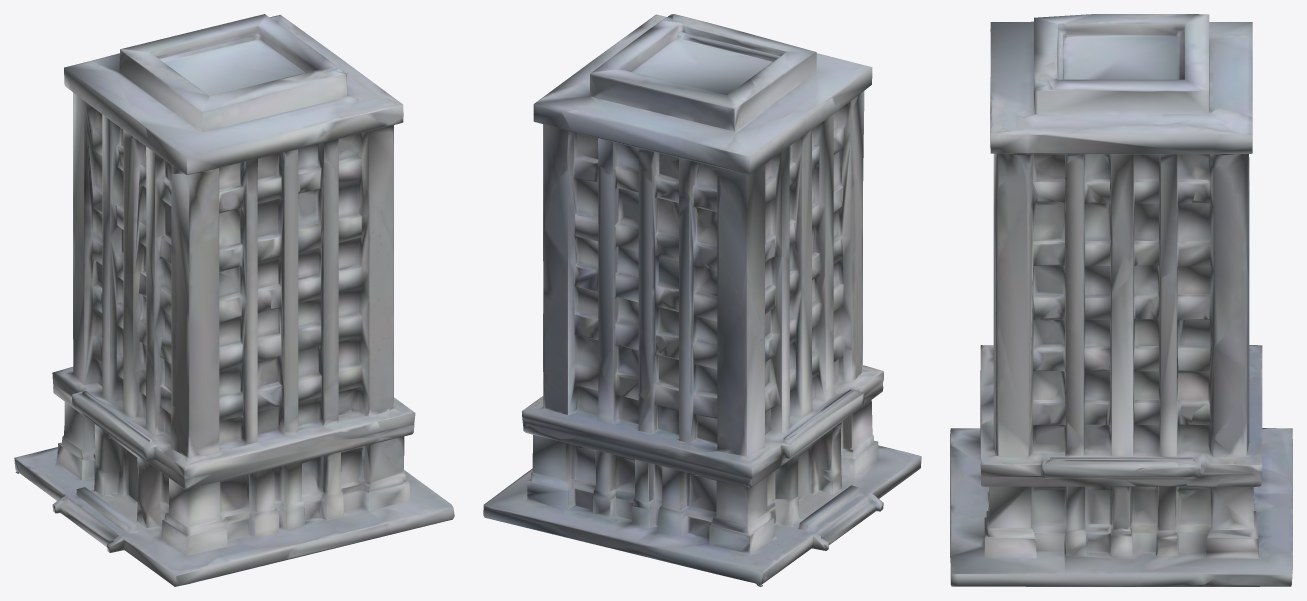
Rendered from finance.glb.
The picture shows the model from 3 angles, left to right: view 1: azimuth 30°, elevation 25°; view 2: azimuth 150°, elevation 25°; view 3: azimuth 270°, elevation 25°; orthographic projection. The views are drawn at different scales.
Parts seen in each view (by area): view 1: node_0; view 2: node_0; view 3: node_0.
Boxes of the visible parts, <box> form: node_0: <box>14,14,454,586</box>; node_0: <box>483,14,921,586</box>; node_0: <box>950,14,1292,586</box>.
Bounding box in the file's own units: 0.6114 × 0.869 × 0.5807.
Materials: 1 (1 with a texture image).
